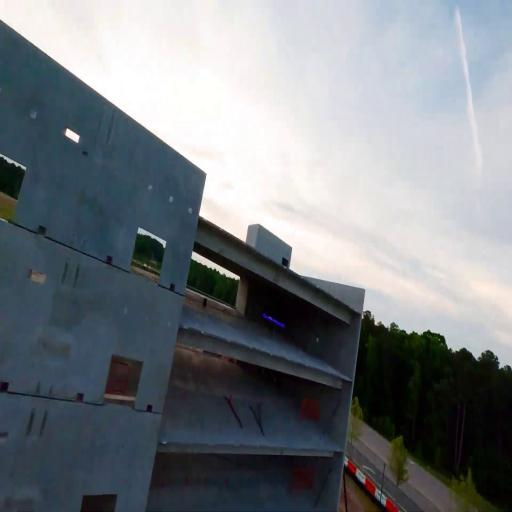uav: (260, 312, 286, 328)
